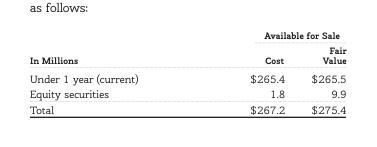table: (28, 29, 345, 115)
table column: (28, 29, 193, 115), (193, 29, 297, 115), (297, 29, 345, 115)
table column header: (28, 29, 345, 68)
table row: (28, 42, 345, 68), (28, 68, 345, 85), (28, 85, 345, 101), (28, 101, 345, 115), (28, 29, 345, 42)
table spanning cell: (28, 29, 193, 68), (193, 29, 345, 42)
